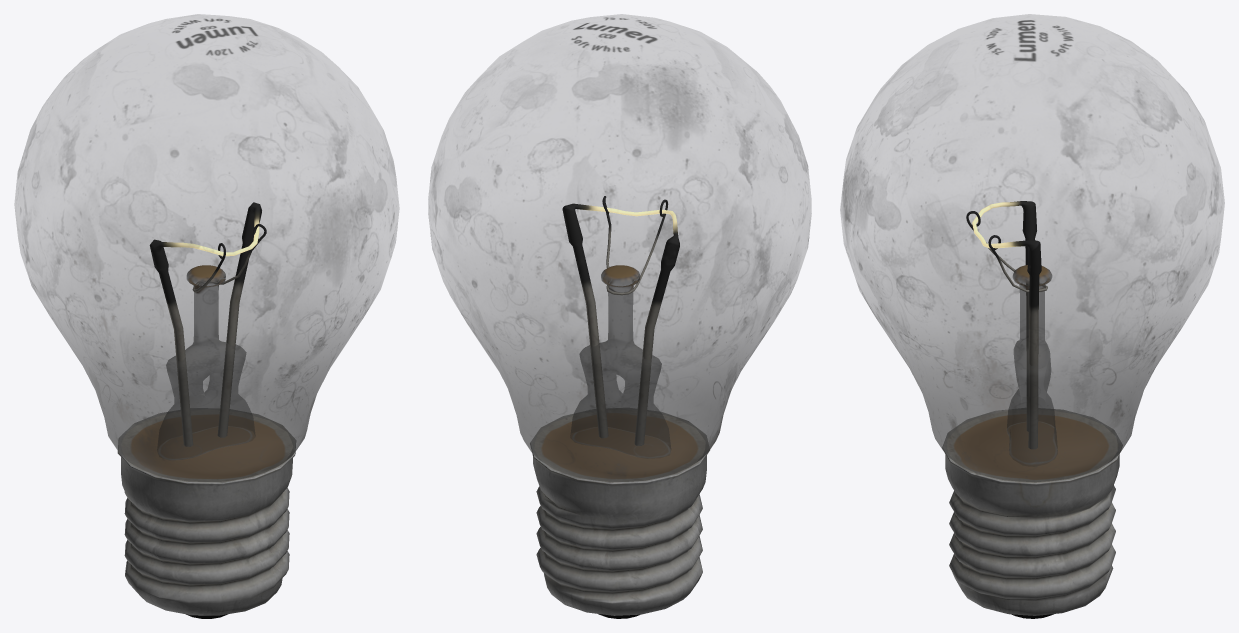
File: Bulb.glb
3 renders of one model, left to right at view 1: azimuth 30°, elevation 25°; view 2: azimuth 150°, elevation 25°; view 3: azimuth 270°, elevation 25°, orthographic.
Parts seen in each view (by area): view 1: lightbulb_01; view 2: lightbulb_01; view 3: lightbulb_01.
Part boxes in pixels (x1=…): lightbulb_01: x1=15, y1=14, x2=398, y2=618; lightbulb_01: x1=428, y1=14, x2=811, y2=618; lightbulb_01: x1=840, y1=14, x2=1224, y2=618.
Bounding box in the file's own units: 0.6656 × 1.11 × 0.6656.
2 materials, 2 textured.
